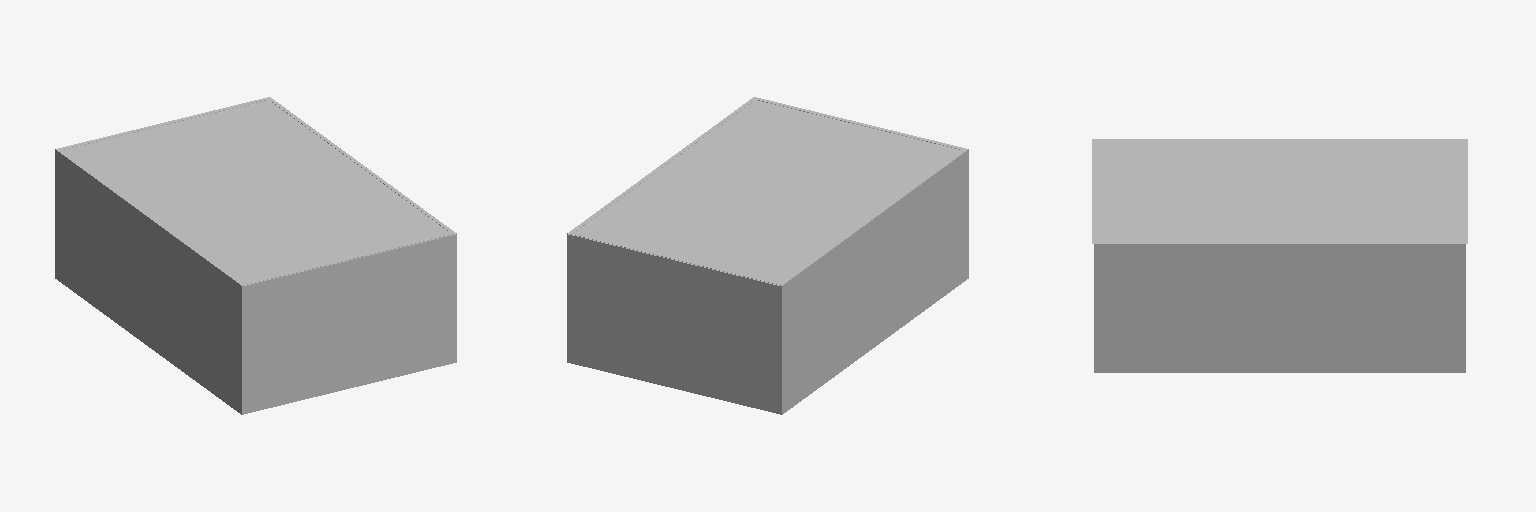
Rendered from room.obj.
3 views of the same model, side by side, from view 1: azimuth 30°, elevation 25°; view 2: azimuth 150°, elevation 25°; view 3: azimuth 270°, elevation 25° (orthographic).
Parts seen in each view (by area): view 1: Cube; view 2: Cube; view 3: Cube.
Part boxes in pixels (left/top/right/bottom): Cube: left=55, top=97, right=456, bottom=414; Cube: left=567, top=97, right=968, bottom=414; Cube: left=1092, top=139, right=1467, bottom=372.
Size of the model in its own units: 14.32 by 8.24 by 21.66.